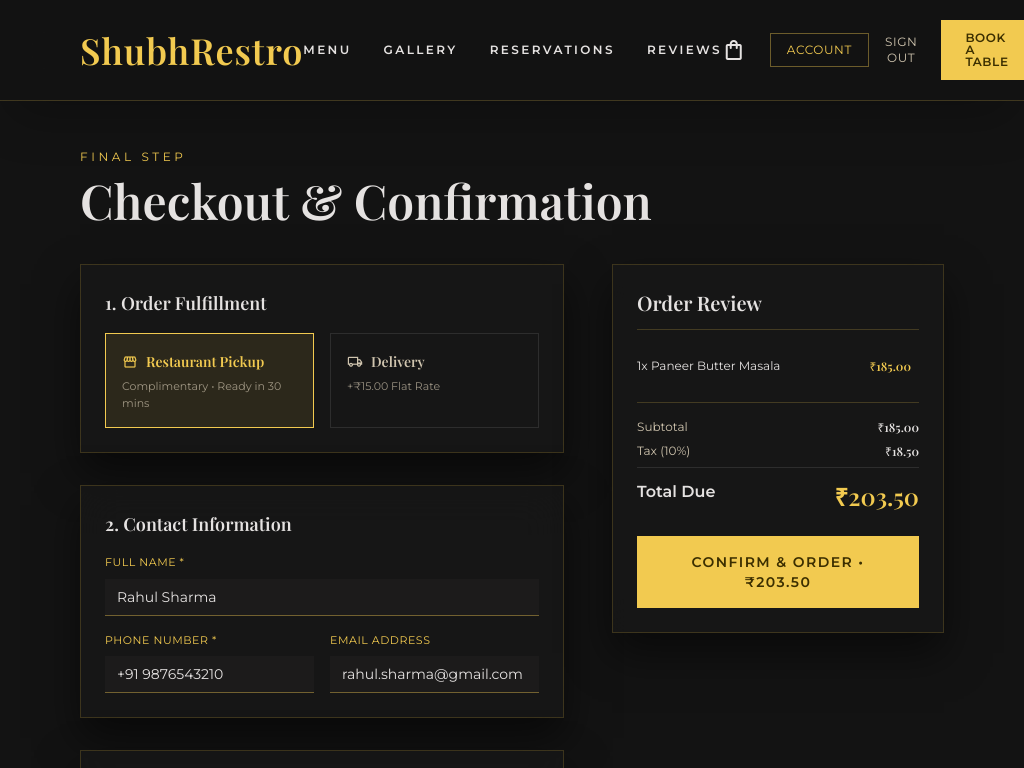
Test: Checkout Form Component Tests › should switch fulfillment to delivery and prompt for street address
Click the text "Delivery" at (386, 362), box [347,350,425,374]
(page scrolled)
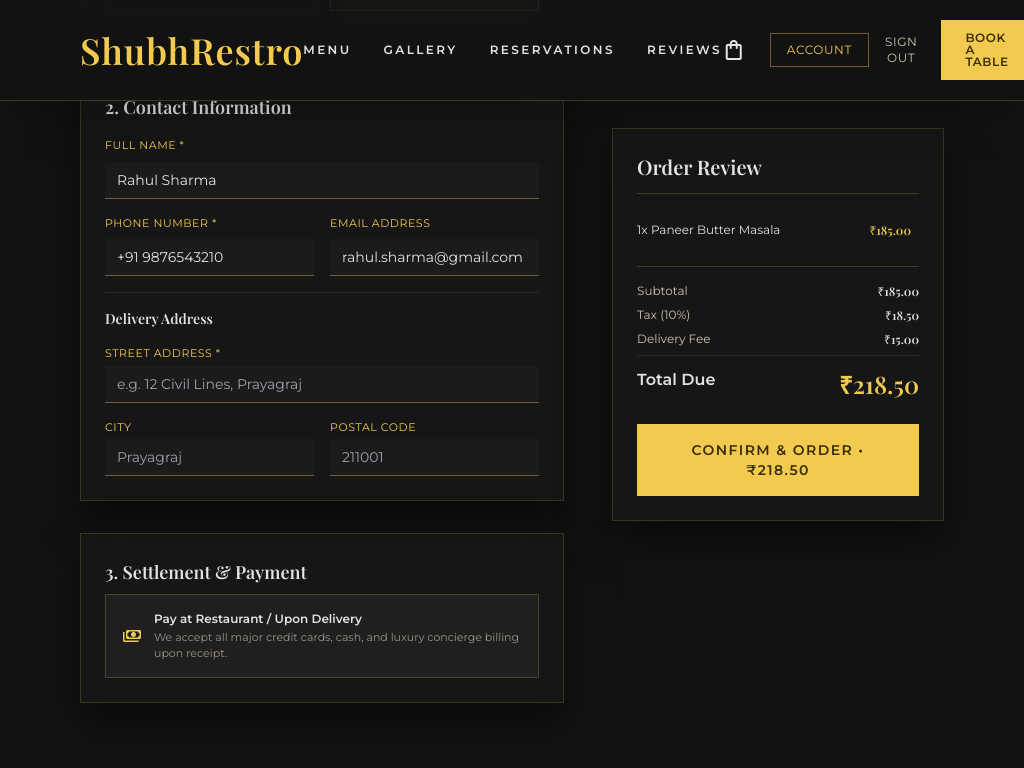
Check: the field with placeholder "e.g. 12 Civil Lines, Prayagraj" is shown, box [105,366,539,402]
